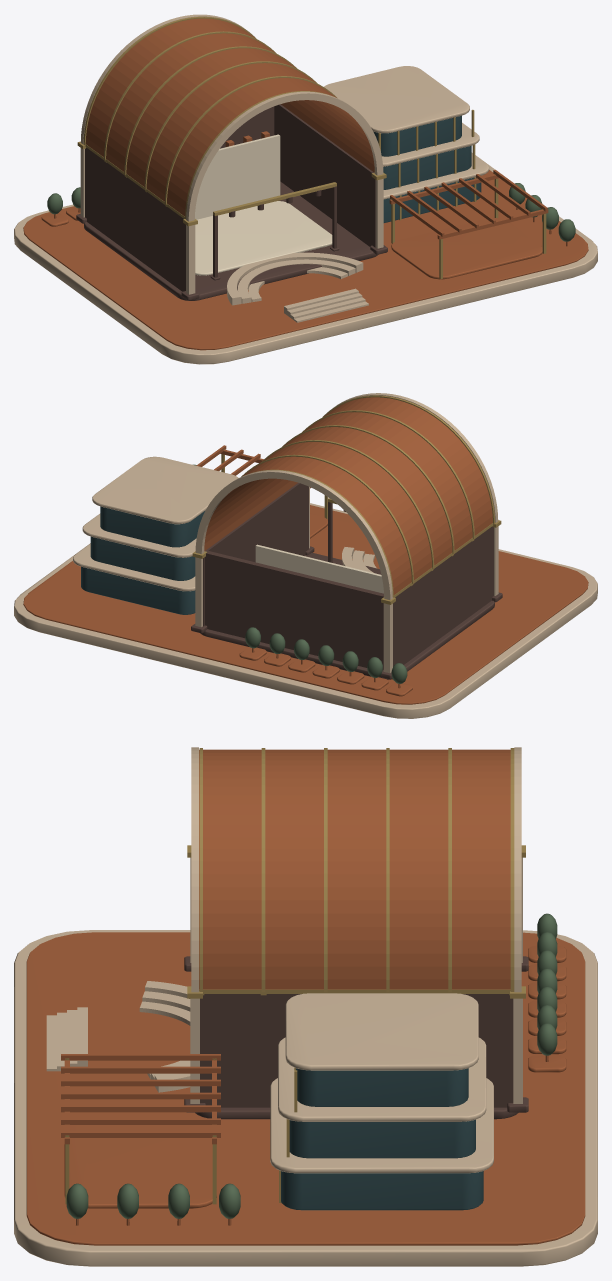
Rendered from standard.glb.
3 renders of one model, top to bottom at view 1: azimuth 30°, elevation 25°; view 2: azimuth 150°, elevation 25°; view 3: azimuth 270°, elevation 25°, orthographic. The views are drawn at different scales.
Parts seen in each view (by area): view 1: polly-architecture-timber, polly-architecture-limestone, polly-architecture-graphite, polly-architecture-chalk, polly-architecture-brushed-brass, polly-architecture-recessed-glass, polly-architecture-garden; view 2: polly-architecture-timber, polly-architecture-graphite, polly-architecture-limestone, polly-architecture-recessed-glass, polly-architecture-brushed-brass, polly-architecture-chalk, polly-architecture-garden; view 3: polly-architecture-timber, polly-architecture-limestone, polly-architecture-recessed-glass, polly-architecture-graphite, polly-architecture-brushed-brass, polly-architecture-garden.
Boxes of the visible parts, x1,y1,x2,y2 form: polly-architecture-timber: (23, 18, 588, 350); polly-architecture-limestone: (14, 14, 597, 364); polly-architecture-graphite: (76, 104, 387, 300); polly-architecture-chalk: (195, 134, 332, 275); polly-architecture-brushed-brass: (77, 16, 546, 278); polly-architecture-recessed-glass: (373, 115, 481, 222); polly-architecture-garden: (47, 183, 575, 241); polly-architecture-timber: (23, 397, 588, 704); polly-architecture-graphite: (191, 483, 502, 679); polly-architecture-limestone: (14, 393, 597, 718); polly-architecture-recessed-glass: (81, 506, 204, 614); polly-architecture-brushed-brass: (192, 395, 501, 604); polly-architecture-chalk: (255, 544, 383, 593); polly-architecture-garden: (193, 464, 407, 683); polly-architecture-timber: (26, 749, 585, 1245); polly-architecture-limestone: (14, 747, 597, 1266); polly-architecture-recessed-glass: (281, 1068, 483, 1210); polly-architecture-graphite: (184, 956, 528, 1119); polly-architecture-brushed-brass: (65, 748, 525, 1204); polly-architecture-garden: (66, 913, 557, 1218).
Bounding box in the file's own units: 30 × 13.04 × 23.
